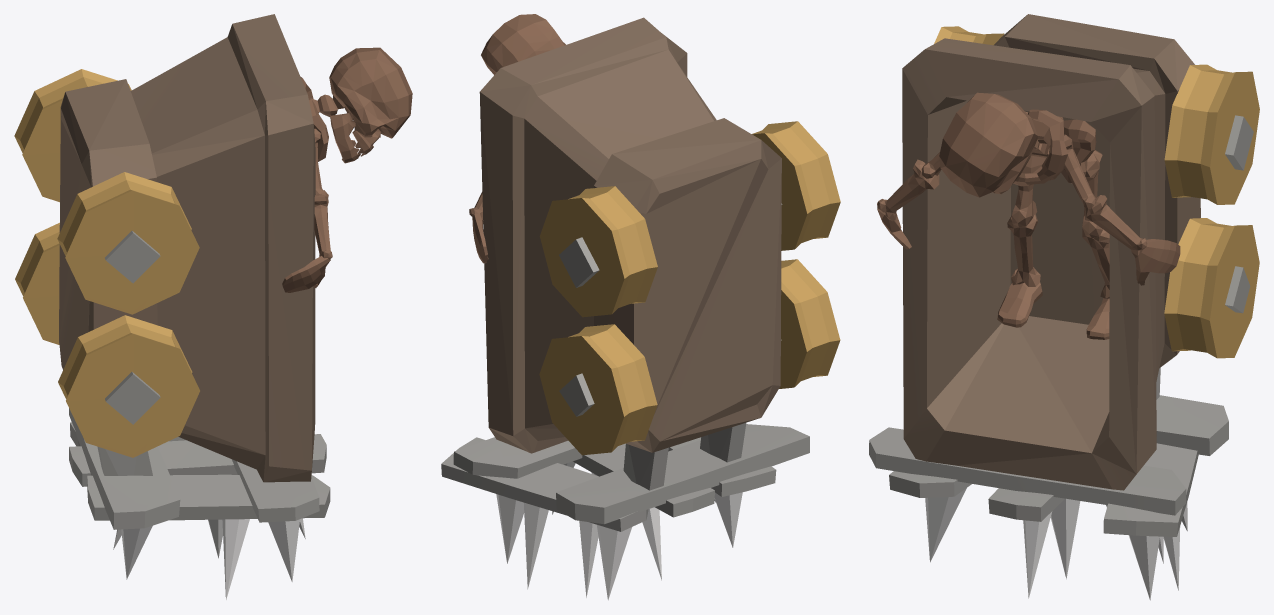
The model's file is trapMineCartCart.fbx.
The picture shows the model from 3 angles, left to right: view 1: azimuth 30°, elevation 25°; view 2: azimuth 150°, elevation 25°; view 3: azimuth 270°, elevation 25°; orthographic projection. The views are drawn at different scales.
Visible parts, largest first — view 1: trapMineCartCart, trapMineCartWheel1, trapMineCartWheel2; view 2: trapMineCartCart, trapMineCartWheel1, trapMineCartWheel2; view 3: trapMineCartCart, trapMineCartWheel1, trapMineCartWheel2.
Boxes of the visible parts, <box> form: trapMineCartCart: <box>59,14,412,599</box>; trapMineCartWheel1: <box>14,69,199,314</box>; trapMineCartWheel2: <box>15,222,199,457</box>; trapMineCartCart: <box>441,14,809,600</box>; trapMineCartWheel1: <box>539,121,840,317</box>; trapMineCartWheel2: <box>539,259,840,455</box>; trapMineCartCart: <box>869,14,1253,600</box>; trapMineCartWheel1: <box>934,26,1259,204</box>; trapMineCartWheel2: <box>1164,218,1259,358</box>.
Size of the model in its own units: 2.14 by 2.94 by 1.92.
